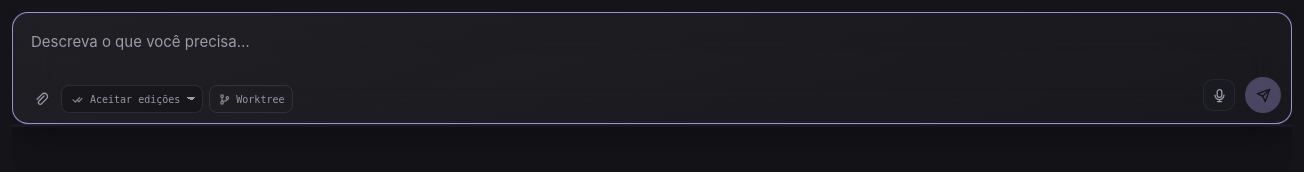
Test: Composer command picker › renders localized permission mode pill in both code and chat modes and cycles through all 4 modes including full_autonomy
The image size is (1304, 172).
Expected: the button with test id "code-permission-mode-pill" reads "Aceitar edições", [61,85,203,113]
Type keys "{Shift>}{Tab}{/Shift}"
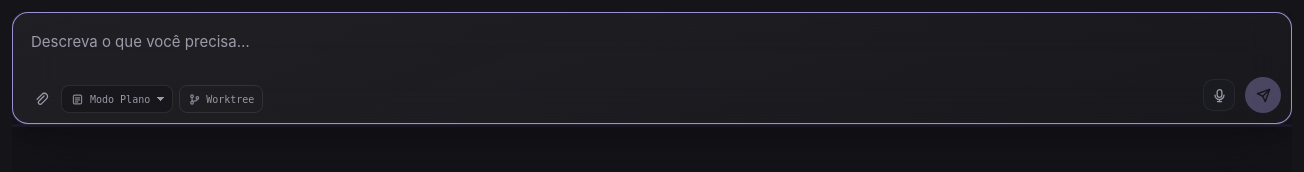
Now the button with test id "code-permission-mode-pill" reads "Modo Plano", box [61,85,173,113]
Type keys "{Shift>}{Tab}{/Shift}"
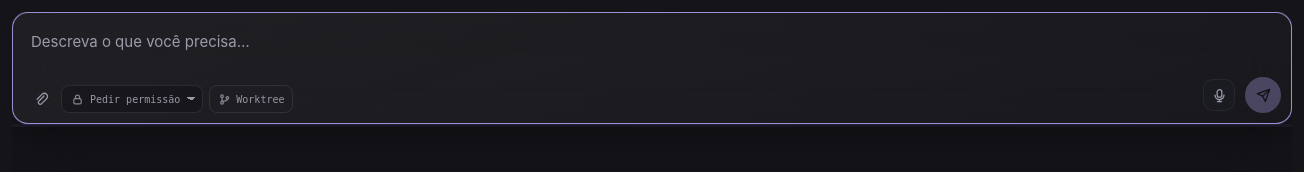
Now the button with test id "code-permission-mode-pill" reads "Pedir permissão", box [61,85,203,113]
Type keys "{Shift>}{Tab}{/Shift}"
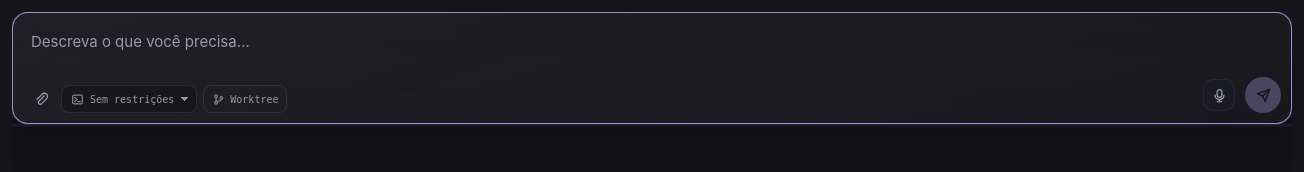
Now the button with test id "code-permission-mode-pill" reads "Sem restrições", box [61,85,197,113]
Type keys "{Shift>}{Tab}{/Shift}"
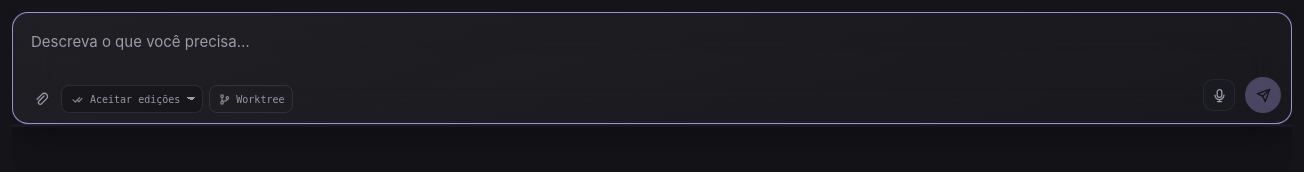
Now the button with test id "code-permission-mode-pill" reads "Aceitar edições"
Click the button with test id "code-permission-mode-pill". click: (132, 99)
box: [61,85,203,113]
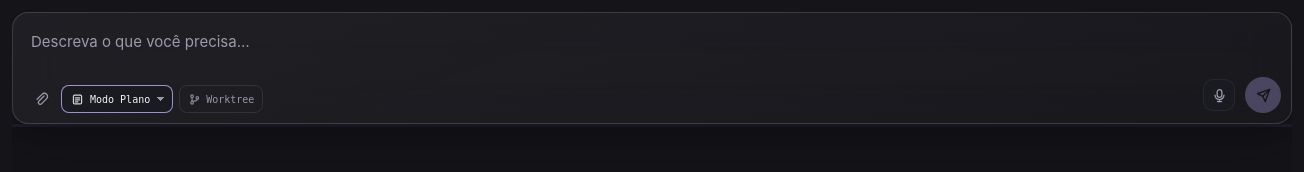
Now the button with test id "code-permission-mode-pill" reads "Modo Plano", box [61,85,173,113]
